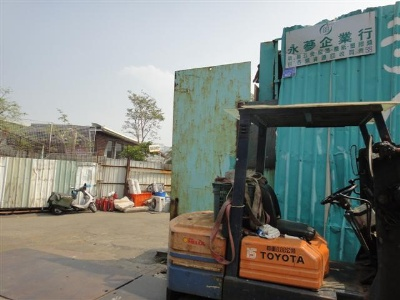box: (129, 191, 152, 207)
